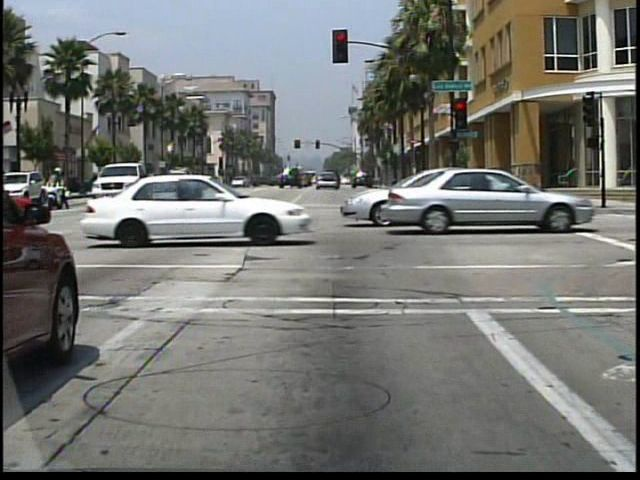person: (45, 165, 71, 213)
